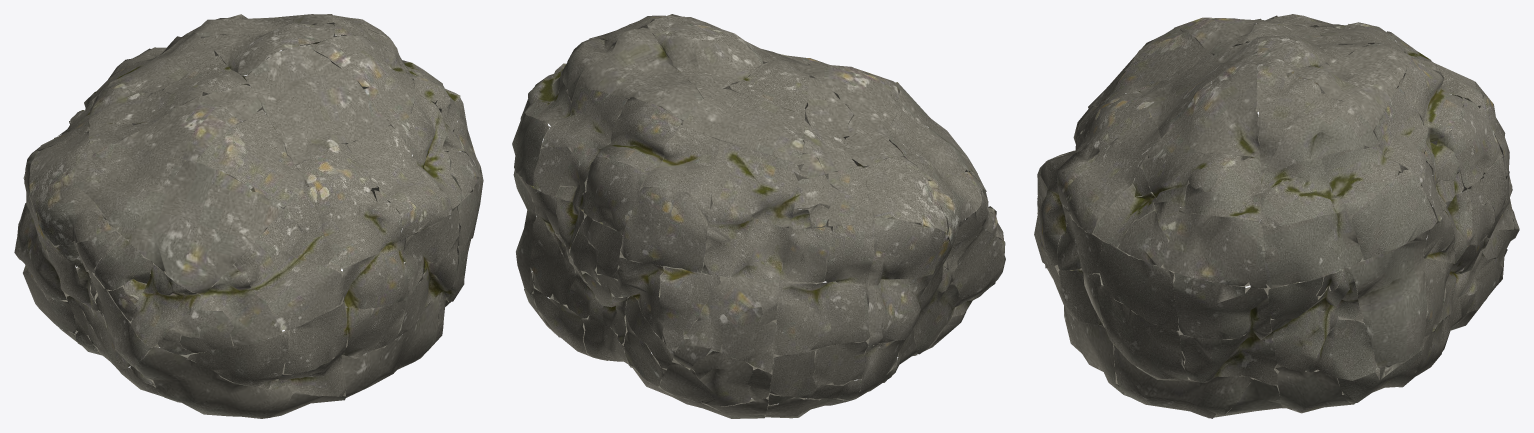
File: rock.glb
3 renders of one model, left to right at view 1: azimuth 30°, elevation 25°; view 2: azimuth 150°, elevation 25°; view 3: azimuth 270°, elevation 25°, orthographic. The views are drawn at different scales.
Parts seen in each view (by area): view 1: Mesh_0; view 2: Mesh_0; view 3: Mesh_0.
Part boxes in pixels (box(x1,y1,x2,y2)): Mesh_0: box(14, 14, 483, 418); Mesh_0: box(512, 14, 1005, 418); Mesh_0: box(1034, 14, 1519, 418).
Size of the model in its own units: 1.37 by 1 by 1.28.
1 material, 1 textured.
